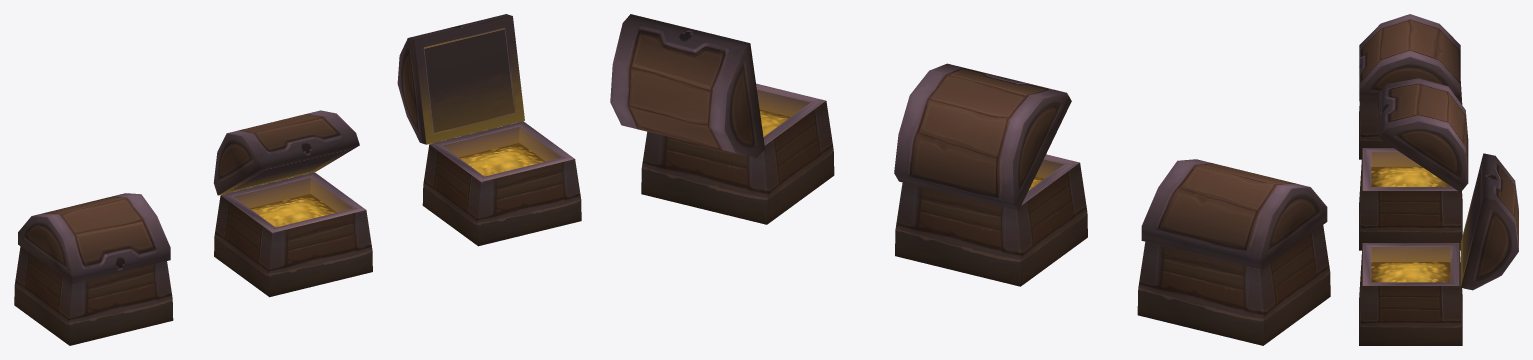
The model's file is chest.glb.
The picture shows the model from 3 angles, left to right: view 1: azimuth 30°, elevation 25°; view 2: azimuth 150°, elevation 25°; view 3: azimuth 270°, elevation 25°; orthographic projection. The views are drawn at different scales.
Parts seen in each view (by area): view 1: Object_2; view 2: Object_2; view 3: Object_2.
Part boxes in pixels (x1,y1,x2,y2): Object_2: (14, 14, 581, 345); Object_2: (610, 14, 1330, 345); Object_2: (1359, 14, 1518, 345).
Bounding box in the file's own units: 14.9 × 4.36 × 4.3.
1 material, 1 textured.
